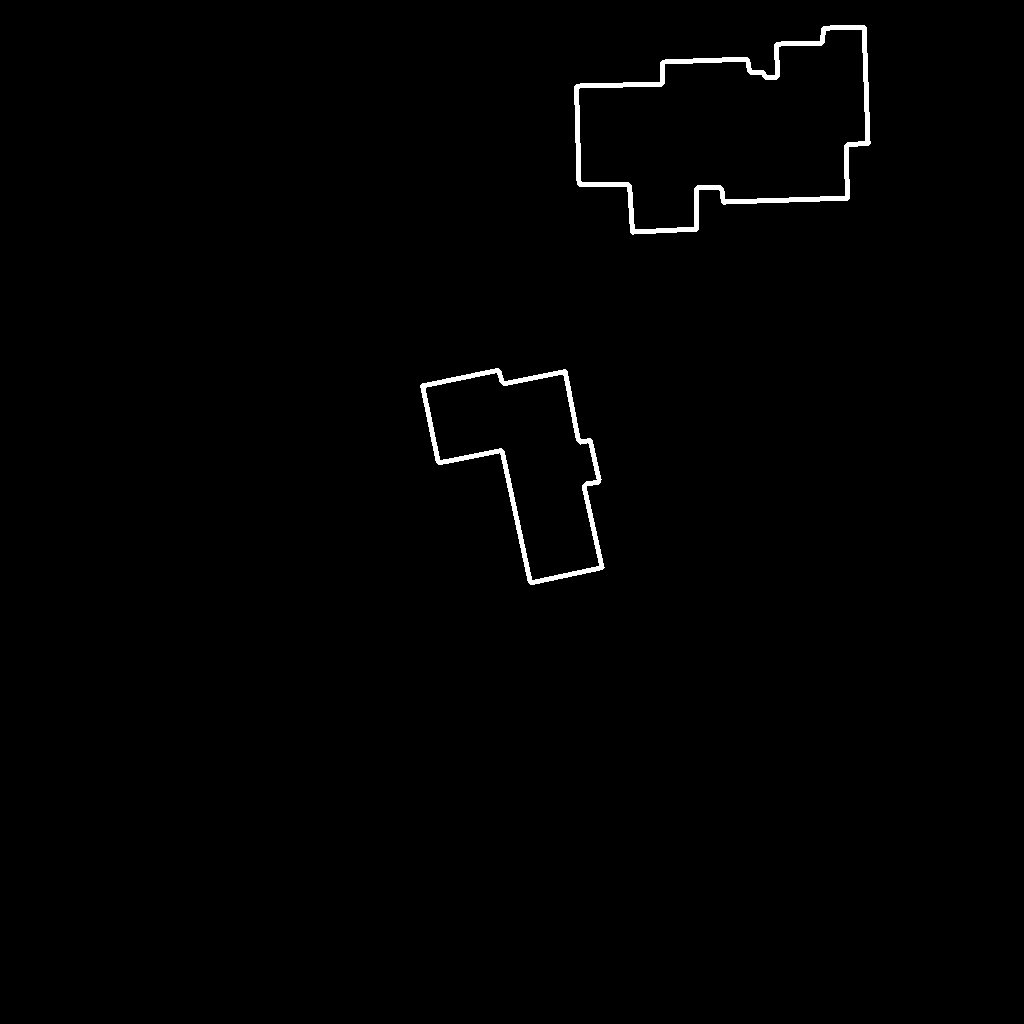building: (576, 27, 869, 233), (422, 370, 603, 584)
